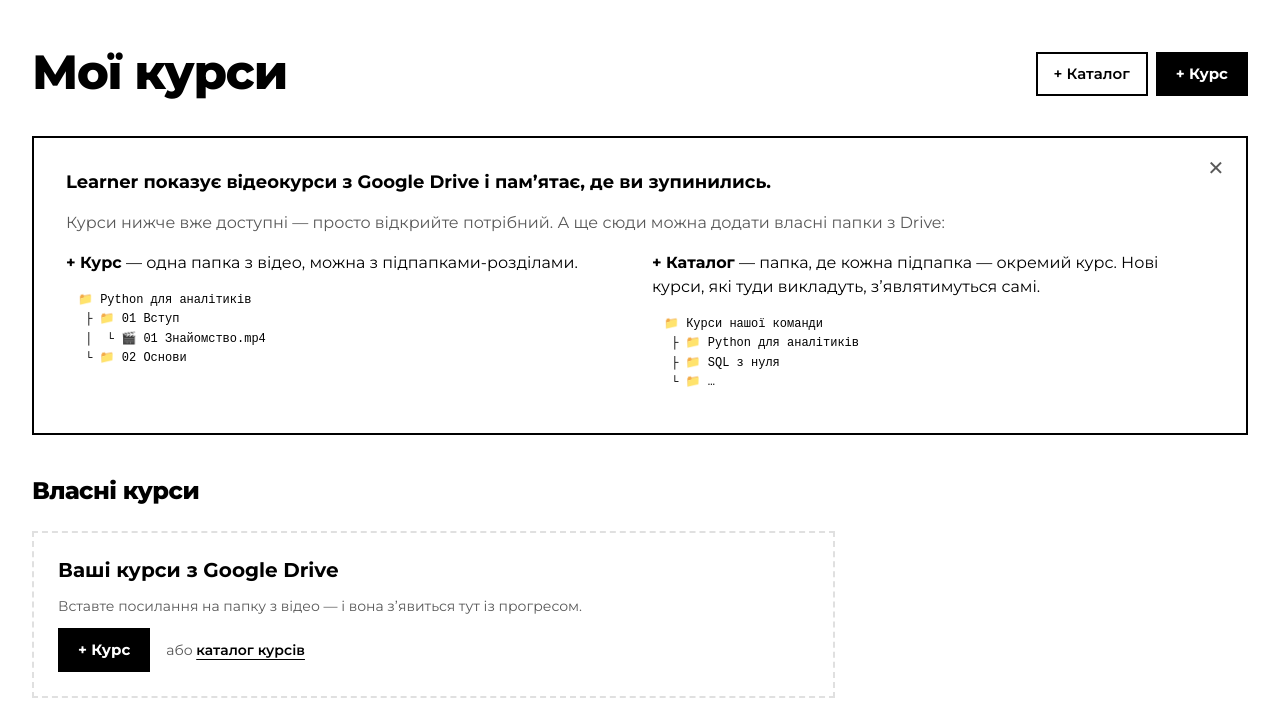
it: LibraryPage › запрошення пропонує й каталог курсів
The width and height of the screenshot is (1280, 720).
Click the button "каталог курсів". click: (251, 650)
box: [196,628,305,672]
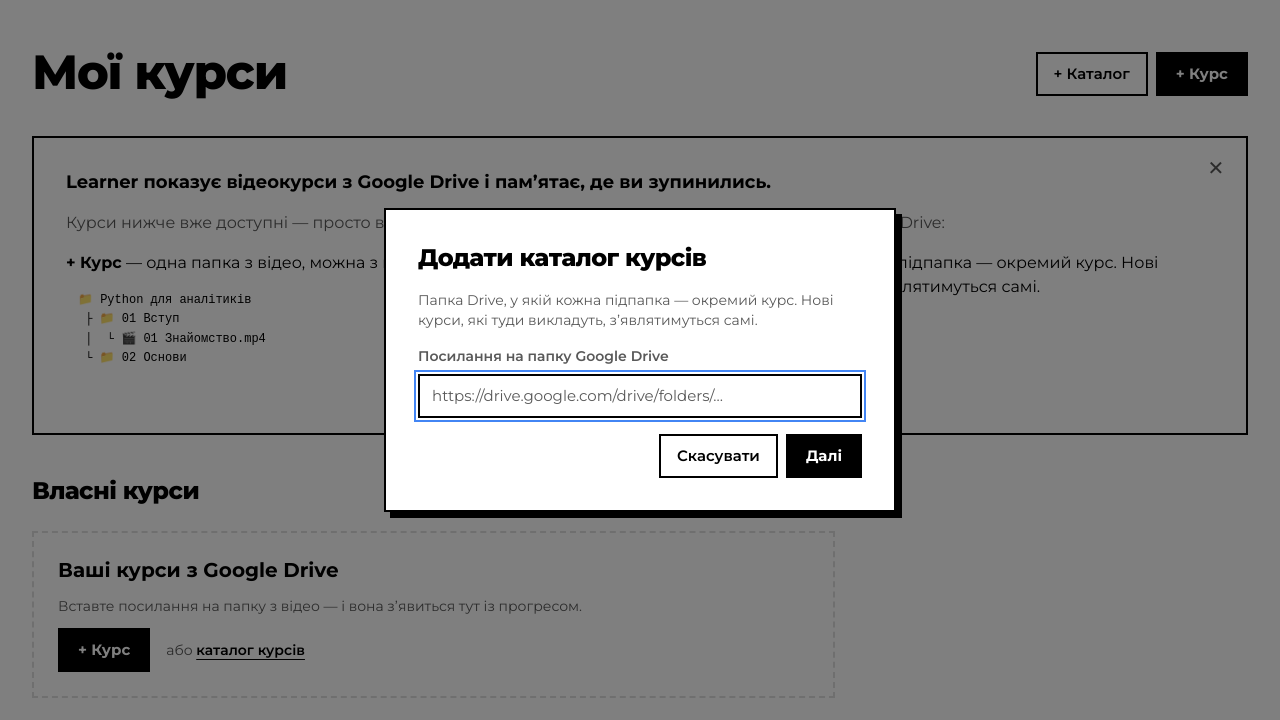
Now the dialog "Додати каталог курсів" is shown, box [384,208,896,512]
